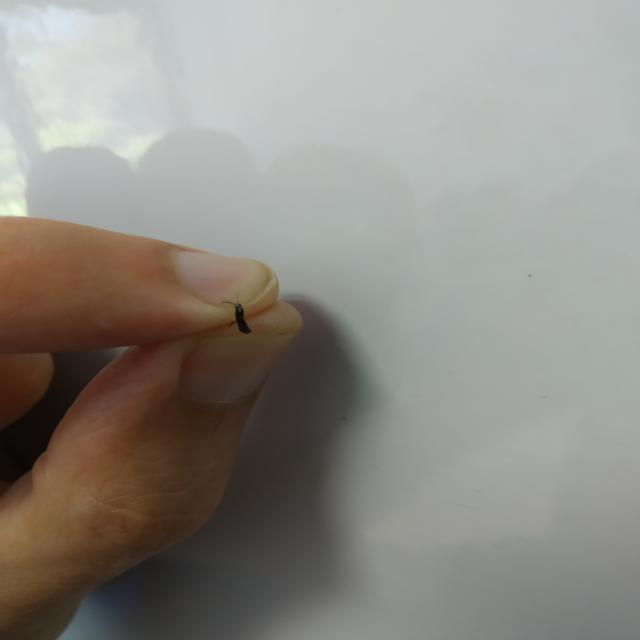albopictus: (213, 292, 261, 333)
